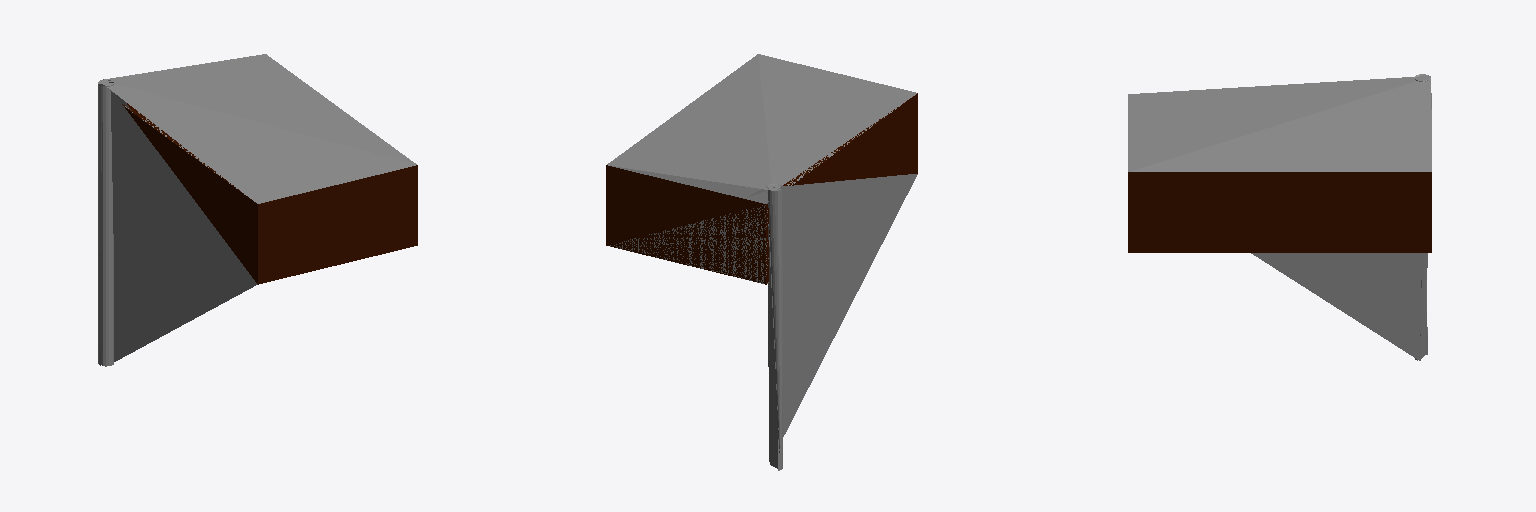
File: Desk.obj
3 views of the same model, side by side, from view 1: azimuth 30°, elevation 25°; view 2: azimuth 150°, elevation 25°; view 3: azimuth 270°, elevation 25° (orthographic).
Parts seen in each view (by area): view 1: Cylinder007, Box017; view 2: Cylinder007, Box017; view 3: Cylinder007, Box017.
Boxes of the visible parts, x1=… form: Cylinder007: x1=98, y1=54, x2=416, y2=366; Box017: x1=122, y1=103, x2=417, y2=284; Cylinder007: x1=607, y1=54, x2=917, y2=470; Box017: x1=606, y1=93, x2=917, y2=284; Cylinder007: x1=1128, y1=74, x2=1431, y2=360; Box017: x1=1128, y1=172, x2=1431, y2=252.
Bounding box in the file's own units: 218327 × 340758 × 334977.